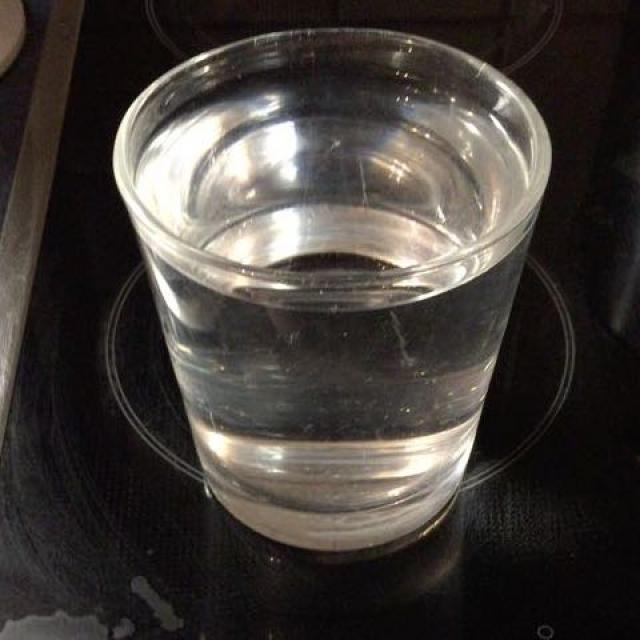water: (151, 55, 534, 515)
